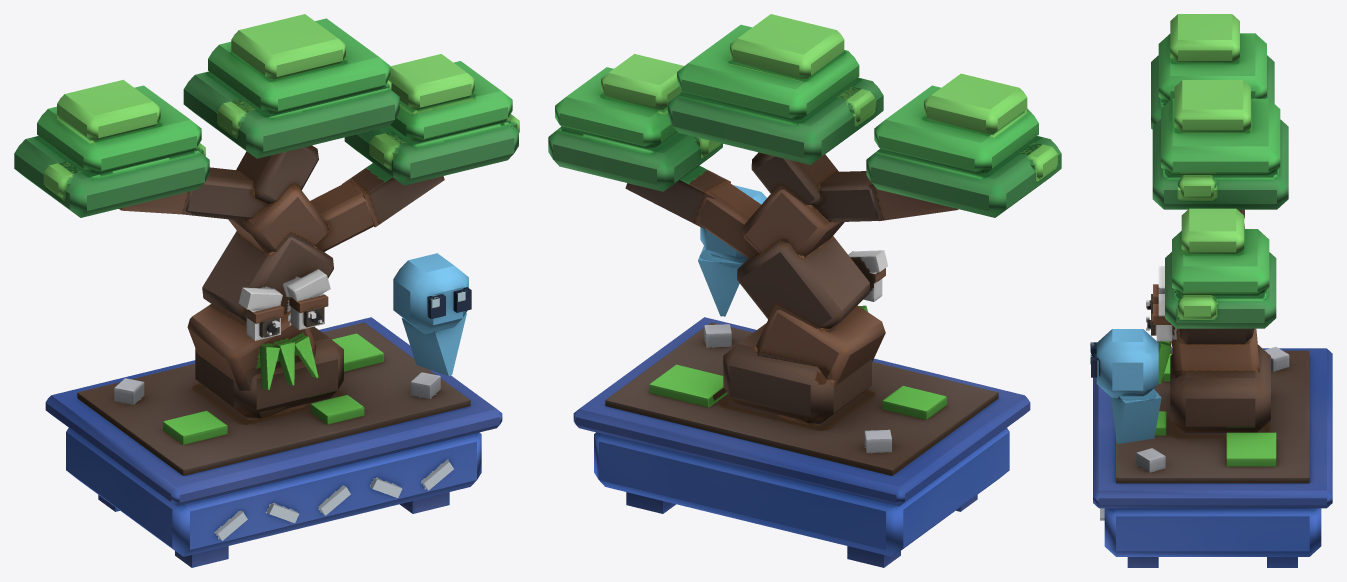
File: BonsaiMillenaire_Rig.fbx
The picture shows the model from 3 angles, left to right: view 1: azimuth 30°, elevation 25°; view 2: azimuth 150°, elevation 25°; view 3: azimuth 270°, elevation 25°; orthographic projection. The views are drawn at different scales.
Parts seen in each view (by area): view 1: Body, Canopy, Spirit; view 2: Body, Canopy, Spirit; view 3: Body, Canopy, Spirit.
Part boxes in pixels (x1,y1,x2,y2): Body: (45,145,502,567); Canopy: (14,14,519,217); Spirit: (393,253,471,376); Body: (573,152,1030,567); Canopy: (548,14,1061,217); Spirit: (698,185,766,316); Body: (1093,209,1332,567); Canopy: (1151,14,1288,328); Spirit: (1090,329,1161,443).
Size of the model in its own units: 6.29 by 6 by 3.12.
1 material, 1 textured.
